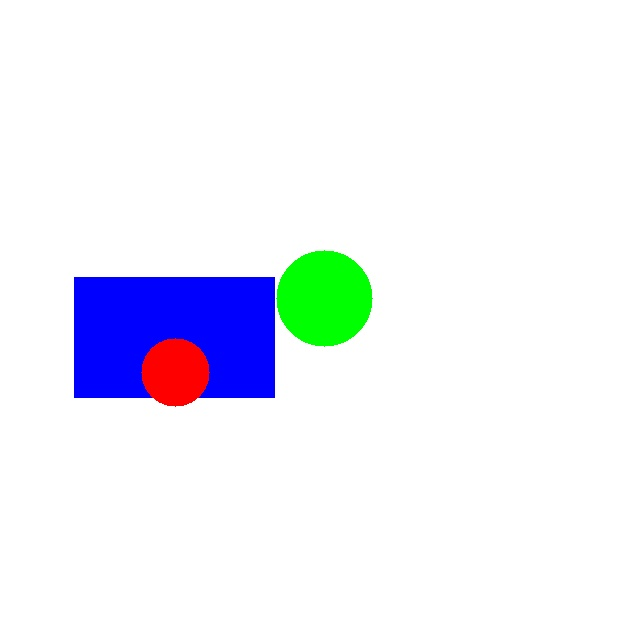cartao: (74, 277, 274, 397)
rosca_externa: (276, 250, 372, 346)
rosca_interna: (141, 338, 209, 406)
